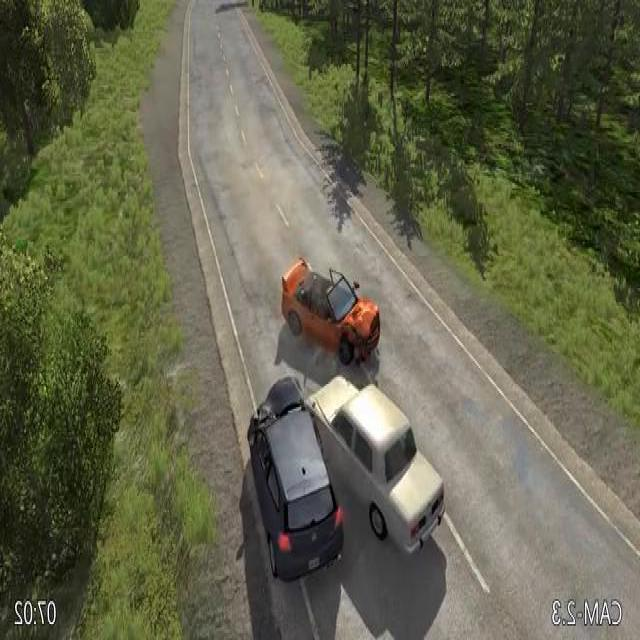accident: (245, 364, 449, 588)
